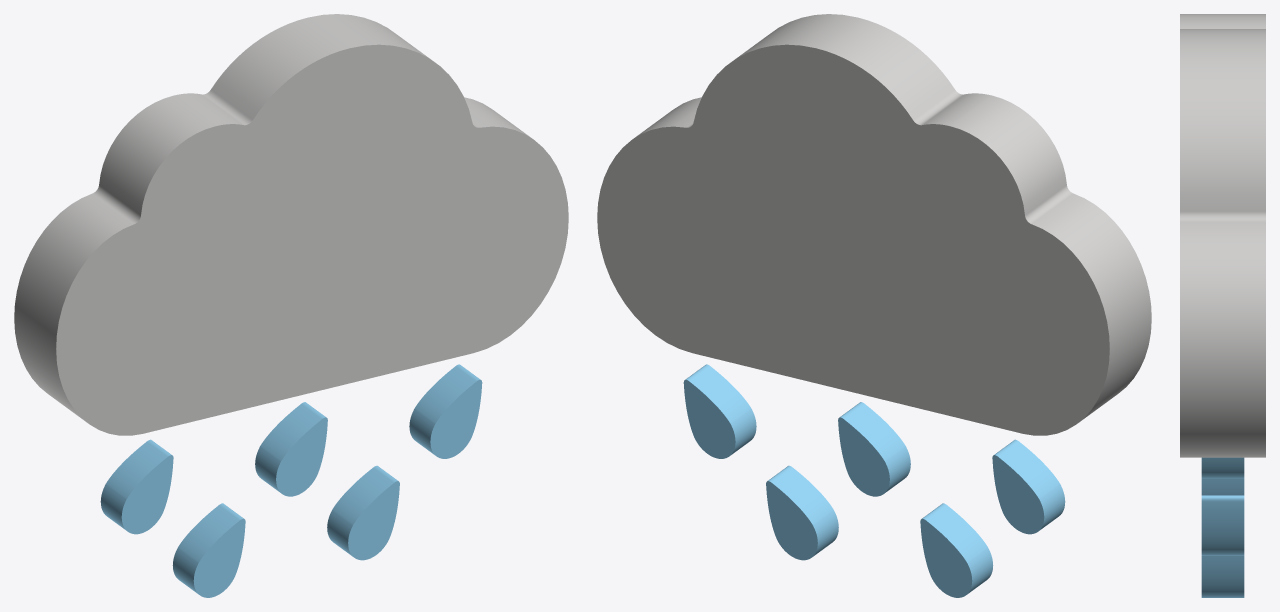
Rendered from rain.fbx.
3 renders of one model, left to right at view 1: azimuth 30°, elevation 25°; view 2: azimuth 150°, elevation 25°; view 3: azimuth 270°, elevation 25°, orthographic. The views are drawn at different scales.
Visible parts, largest first — view 1: Curve.012, Curve.004, Curve.010, Curve.006, Curve.002, Curve.008; view 2: Curve.012, Curve.004, Curve.010, Curve.006, Curve.002, Curve.008; view 3: Curve.012, Curve.004, Curve.010, Curve.006, Curve.008.
Part boxes in pixels (x1=…): Curve.012: x1=14, y1=14, x2=568, y2=435; Curve.004: x1=409, y1=364, x2=482, y2=458; Curve.010: x1=327, y1=465, x2=399, y2=560; Curve.006: x1=255, y1=402, x2=327, y2=496; Curve.002: x1=100, y1=439, x2=173, y2=534; Curve.008: x1=172, y1=503, x2=245, y2=597; Curve.012: x1=597, y1=14, x2=1151, y2=435; Curve.004: x1=683, y1=364, x2=756, y2=458; Curve.010: x1=766, y1=465, x2=838, y2=560; Curve.006: x1=838, y1=402, x2=910, y2=496; Curve.002: x1=992, y1=439, x2=1065, y2=534; Curve.008: x1=920, y1=503, x2=993, y2=597; Curve.012: x1=1180, y1=14, x2=1265, y2=457; Curve.004: x1=1201, y1=495, x2=1244, y2=555; Curve.010: x1=1201, y1=556, x2=1244, y2=597; Curve.006: x1=1201, y1=457, x2=1244, y2=478; Curve.008: x1=1201, y1=478, x2=1244, y2=495.
Size of the model in its own units: 7.43 by 7.28 by 1.05.
